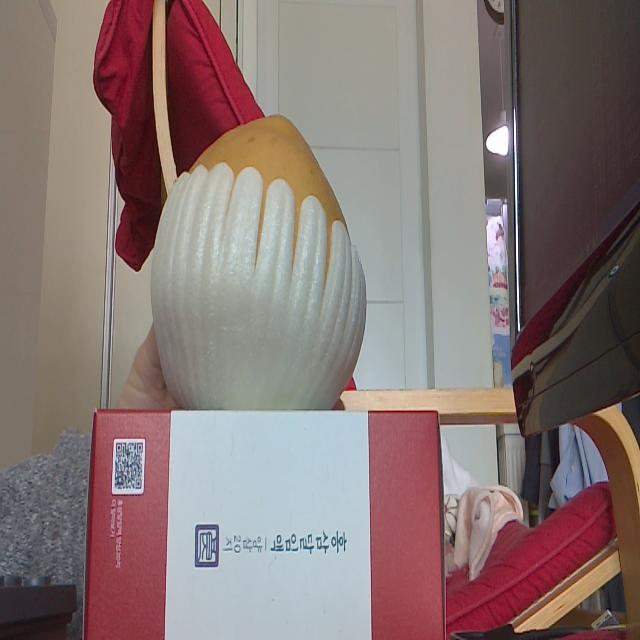pear: (152, 114, 365, 407)
